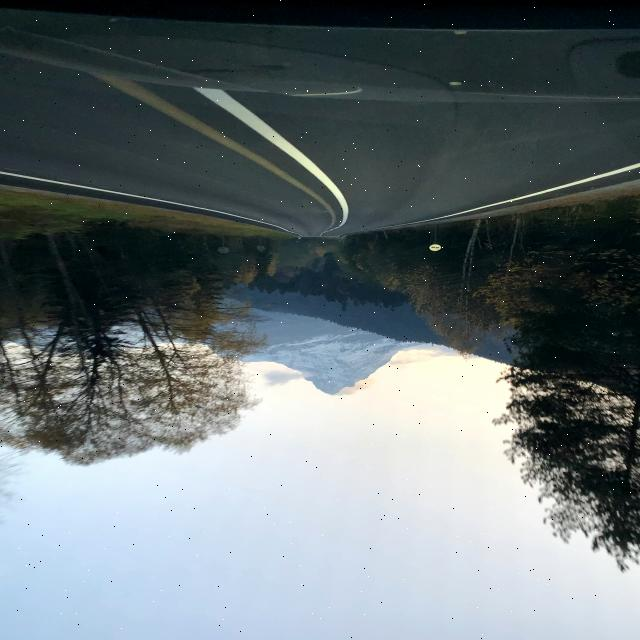lane: (93, 75, 336, 221), (196, 88, 349, 228), (396, 162, 640, 226)
road: (2, 2, 639, 234)
